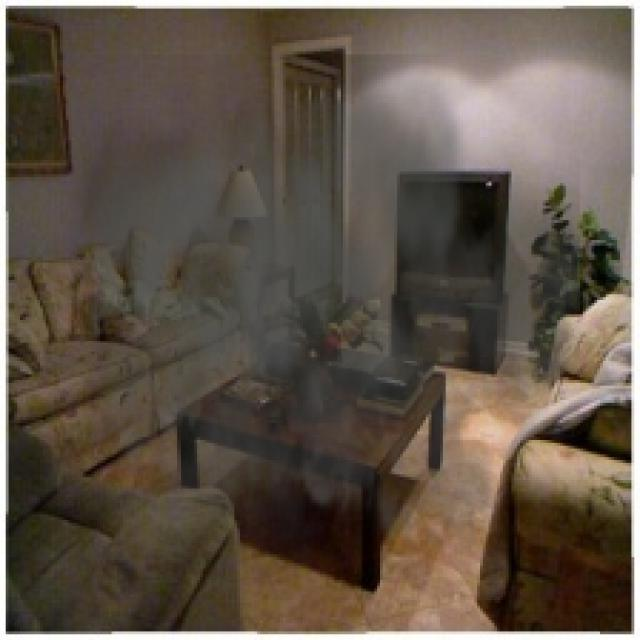smoke: (46, 54, 580, 606)
